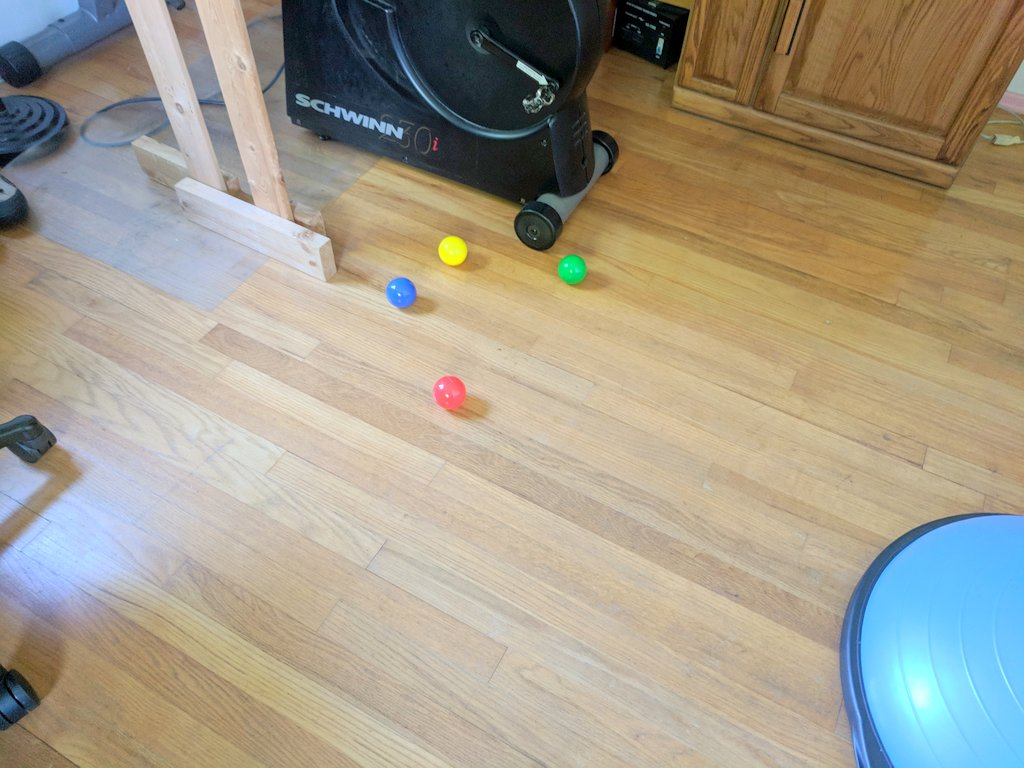ball: (435, 235, 468, 266)
